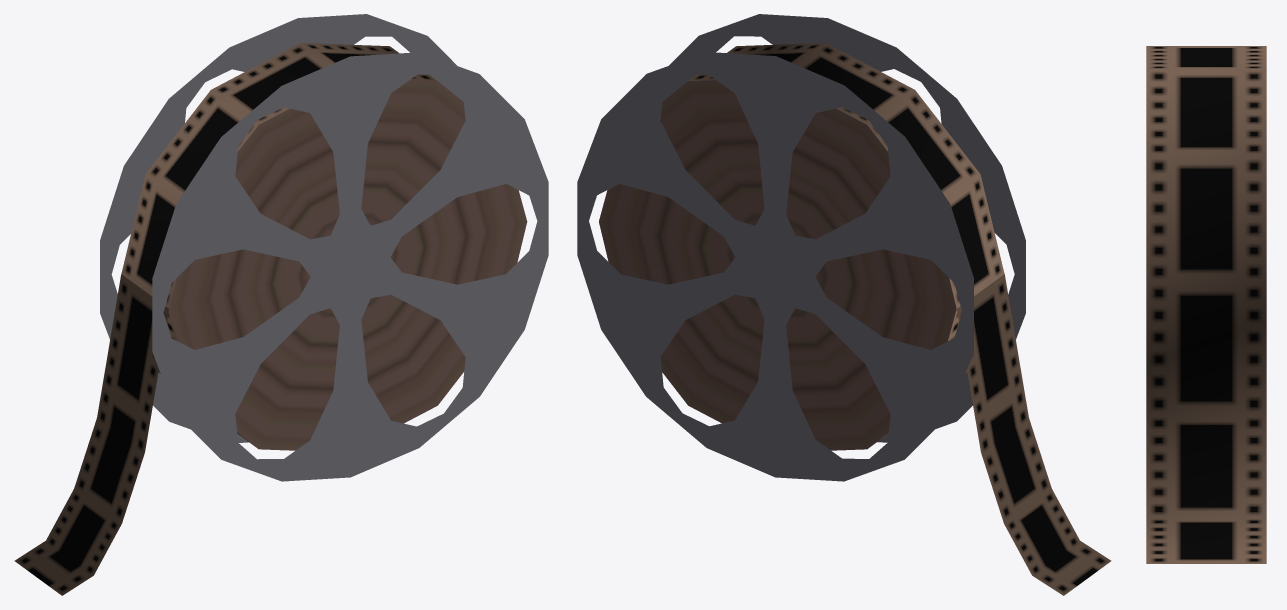
The model's file is progress.ico.obj.
3 views of the same model, side by side, from view 1: azimuth 30°, elevation 25°; view 2: azimuth 150°, elevation 25°; view 3: azimuth 270°, elevation 25° (orthographic). The views are drawn at different scales.
Bounding box in the file's own units: 3.99 × 3.71 × 0.7495.
1 material, 1 textured.
